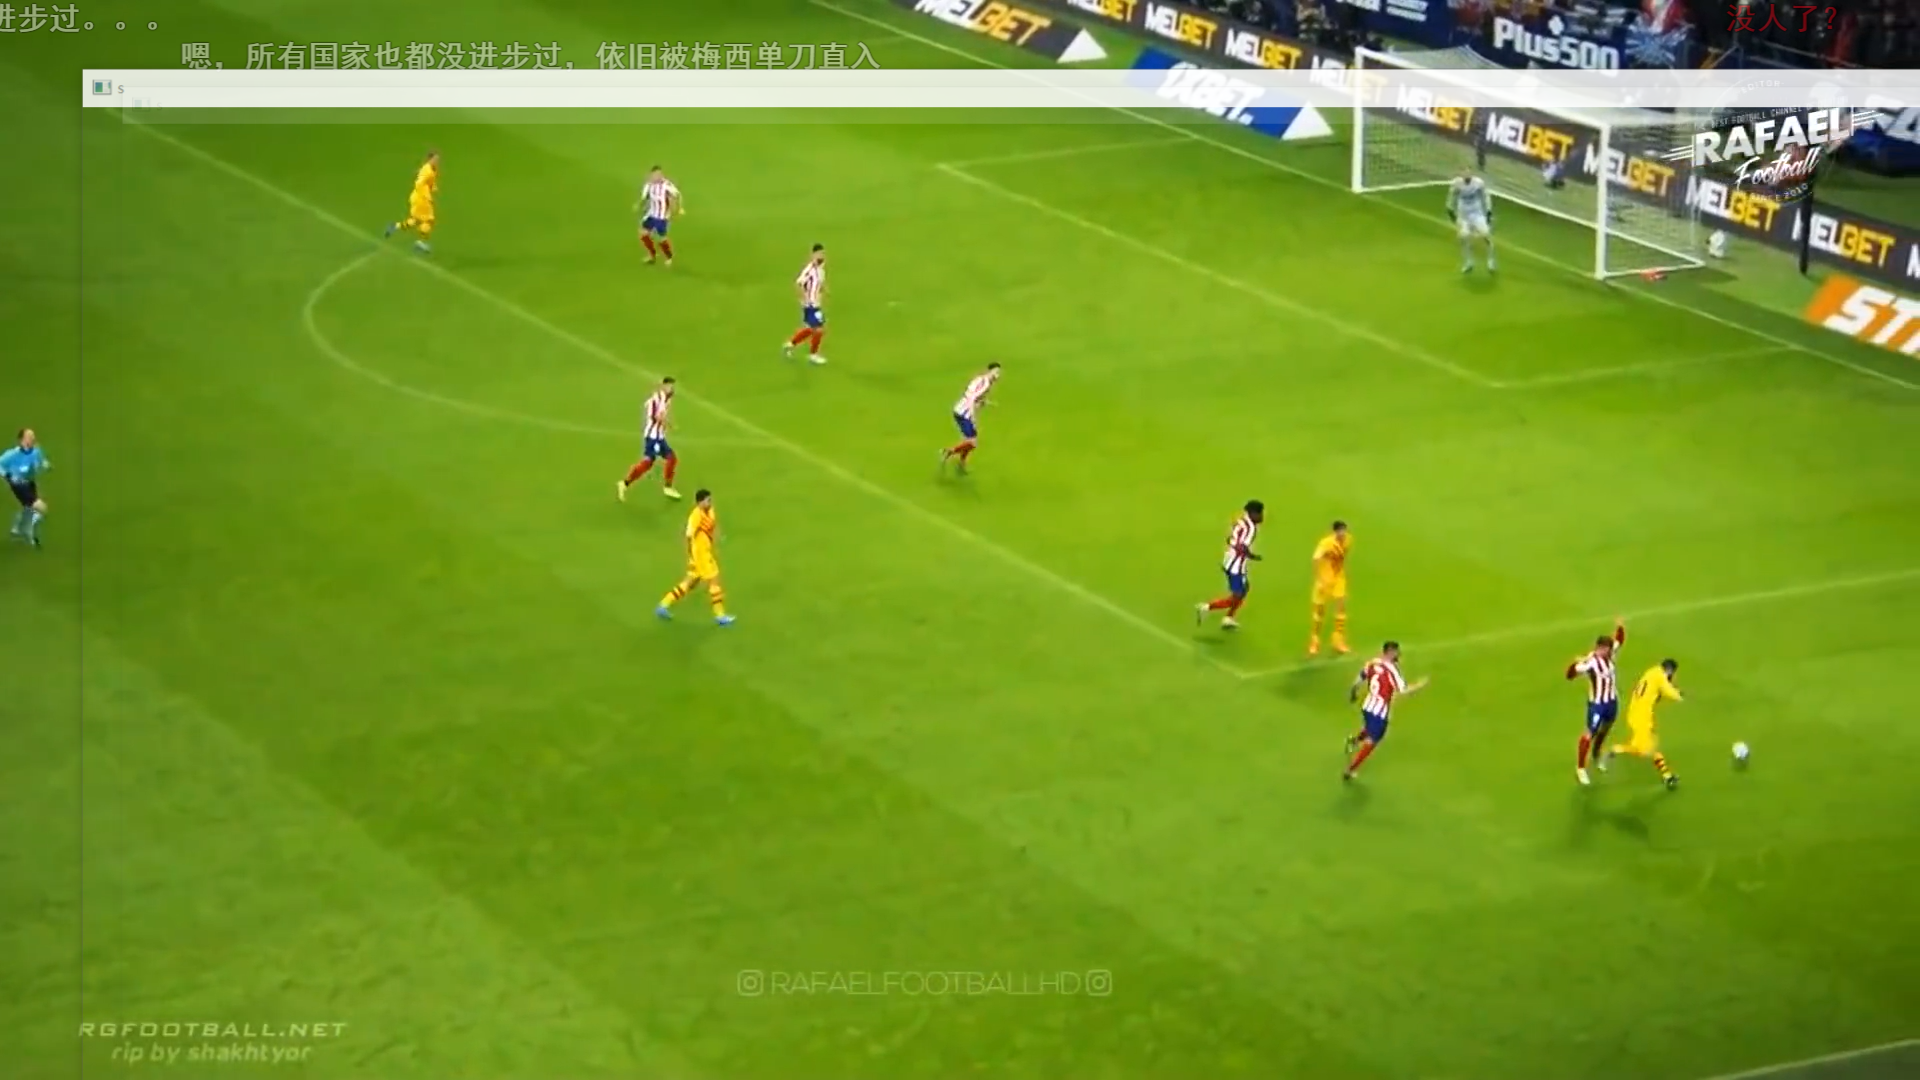ft: (1730, 737, 1753, 761)
